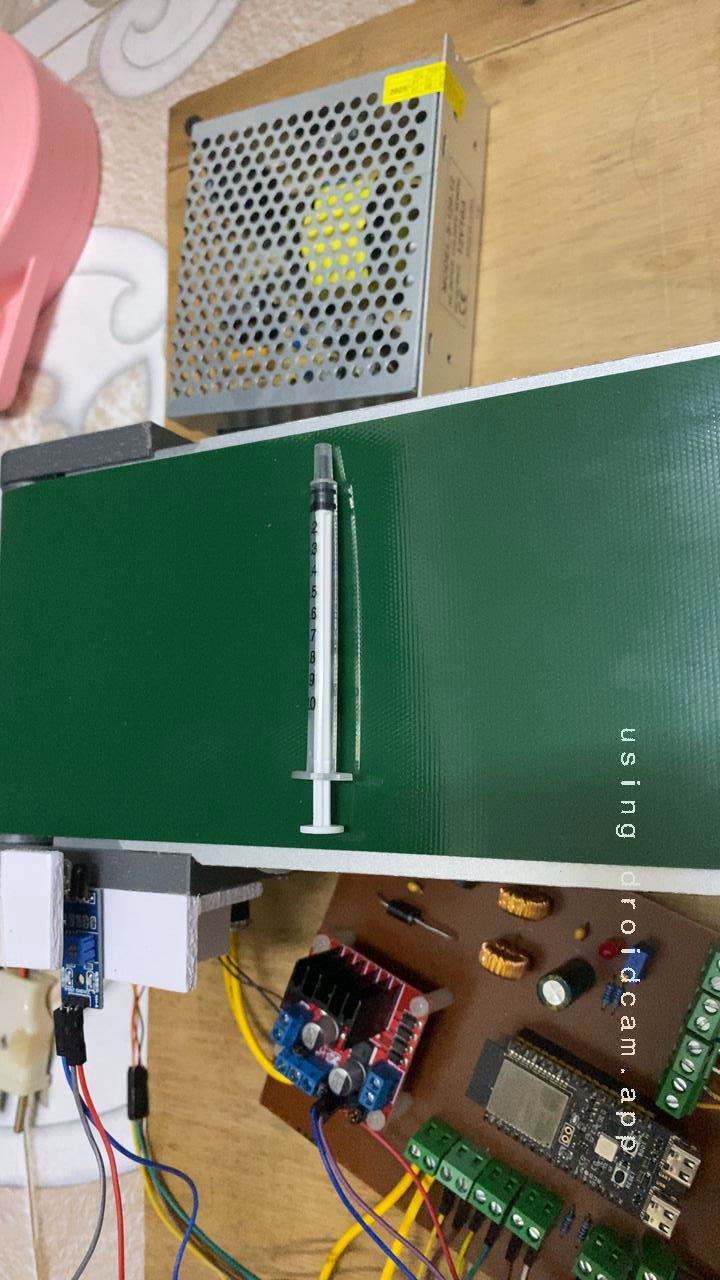syringe: (242, 439, 386, 877)
